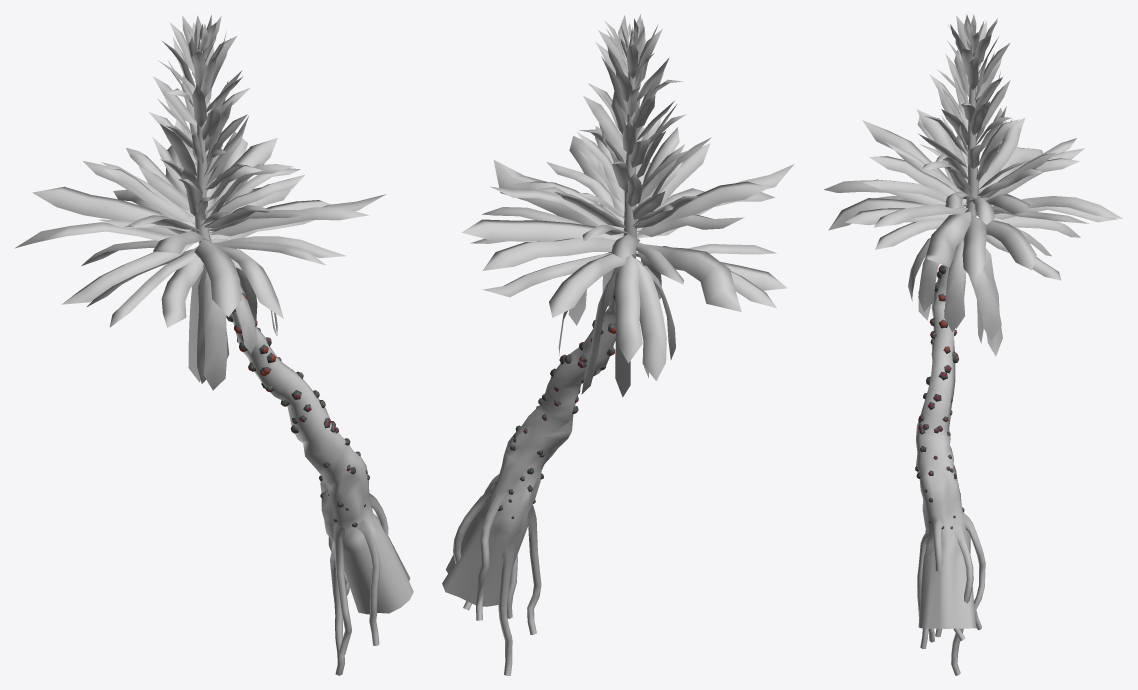
Rendered from Plant15C_L1.fbx.
3 renders of one model, left to right at view 1: azimuth 30°, elevation 25°; view 2: azimuth 150°, elevation 25°; view 3: azimuth 270°, elevation 25°, orthographic. The views are drawn at different scales.
Visible parts, largest first — view 1: polySurface1981; view 2: polySurface1981; view 3: polySurface1981.
Boxes of the visible parts, x1,y1,x2,y2 form: polySurface1981: (15, 15, 413, 675); polySurface1981: (442, 14, 794, 675); polySurface1981: (824, 14, 1122, 675).
Size of the model in its own units: 392 by 743 by 336.
